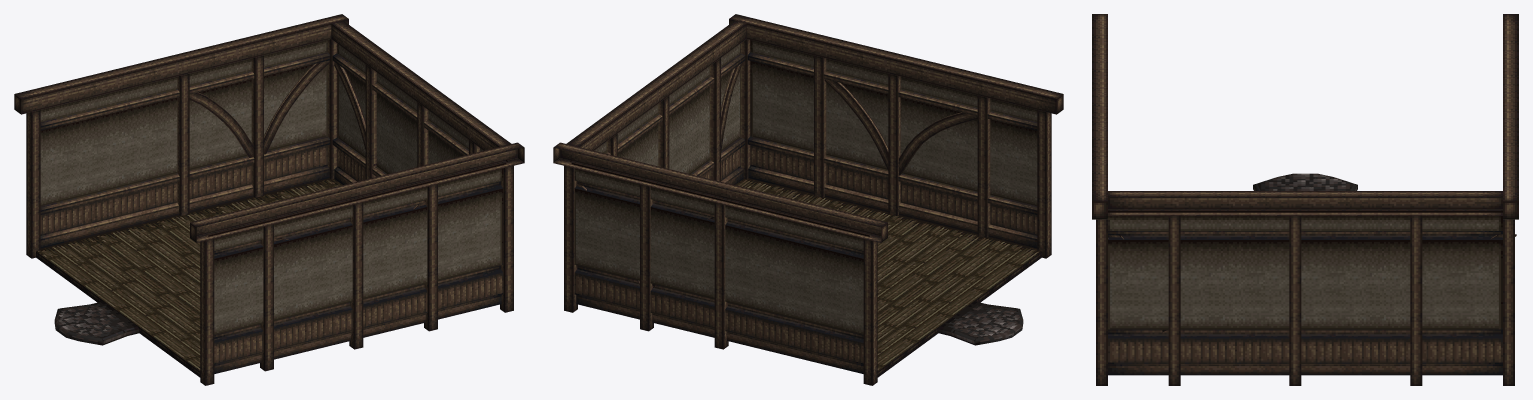
File: EnvBdgMD_Mount_A_Indoor_House_E.FBX
3 renders of one model, left to right at view 1: azimuth 30°, elevation 25°; view 2: azimuth 150°, elevation 25°; view 3: azimuth 270°, elevation 25°, orthographic. The views are drawn at different scales.
Parts seen in each view (by area): view 1: EnvBdgMD_Mount_A_Indoor_House_E; view 2: EnvBdgMD_Mount_A_Indoor_House_E; view 3: EnvBdgMD_Mount_A_Indoor_House_E.
Boxes of the visible parts, left/top/right/bottom form: EnvBdgMD_Mount_A_Indoor_House_E: left=14, top=14, right=524, bottom=385; EnvBdgMD_Mount_A_Indoor_House_E: left=553, top=14, right=1063, bottom=385; EnvBdgMD_Mount_A_Indoor_House_E: left=1092, top=14, right=1518, bottom=385.
Bounding box in the file's own units: 1250 × 520 × 1060.
1 material, 1 textured.
